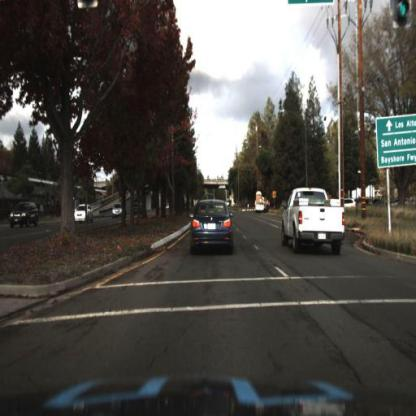car: (279, 181, 349, 258), (188, 196, 235, 255), (10, 202, 41, 229), (108, 198, 127, 227), (73, 201, 93, 228), (338, 198, 361, 214), (253, 190, 267, 214), (256, 190, 269, 214)
